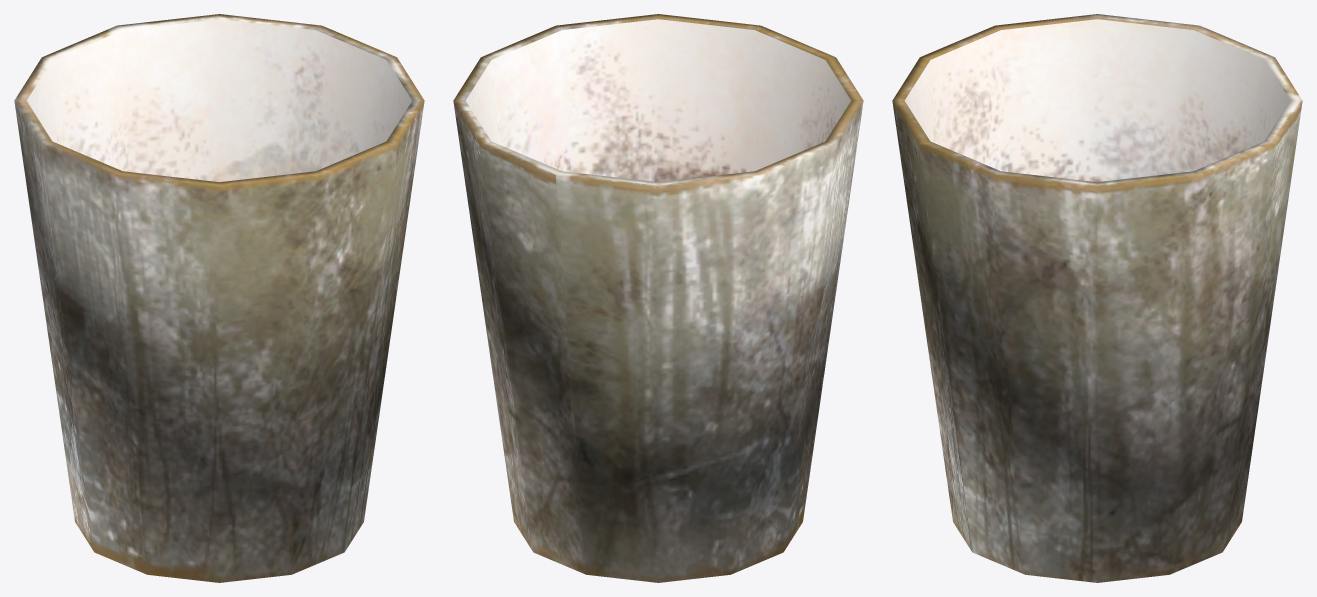
The model's file is tincanVase08.FBX.
3 renders of one model, left to right at view 1: azimuth 30°, elevation 25°; view 2: azimuth 150°, elevation 25°; view 3: azimuth 270°, elevation 25°, orthographic.
Parts seen in each view (by area): view 1: SM_TinCanVase08; view 2: SM_TinCanVase08; view 3: SM_TinCanVase08.
Boxes of the visible parts, x1=… form: SM_TinCanVase08: x1=14, y1=14, x2=424, y2=582; SM_TinCanVase08: x1=453, y1=14, x2=863, y2=582; SM_TinCanVase08: x1=892, y1=14, x2=1302, y2=582.
Size of the model in its own units: 20.86 by 23.63 by 20.86.
Materials: 1 (1 with a texture image).
